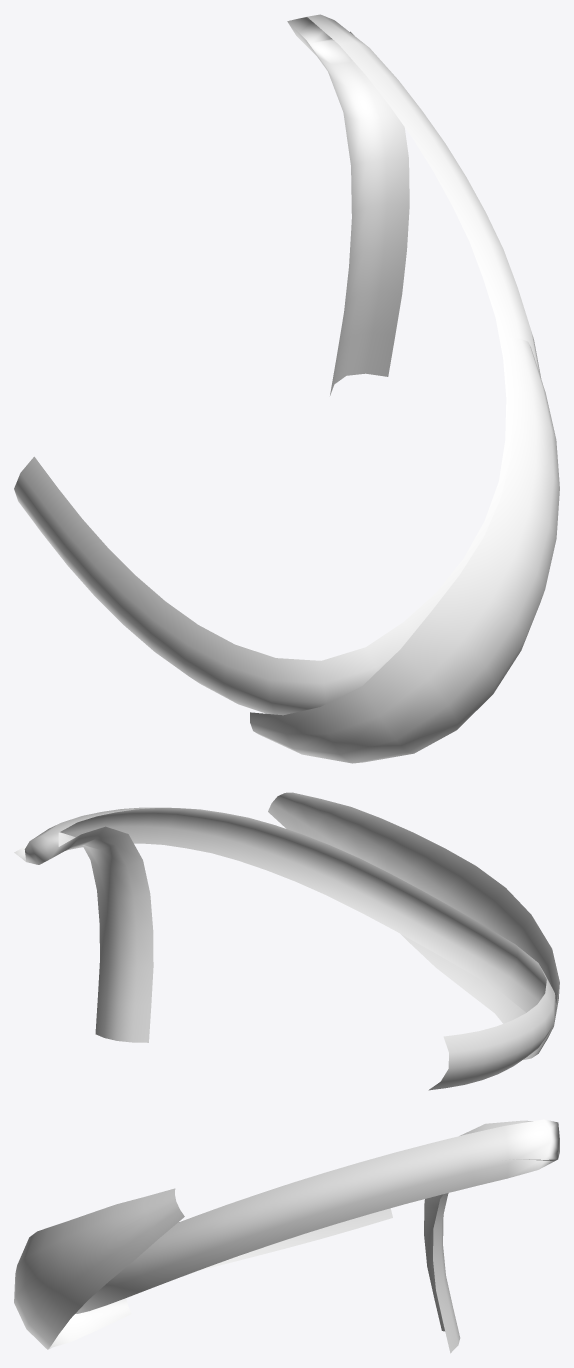
The model's file is VFX_Skill2D.fbx.
3 views of the same model, one above another, from view 1: azimuth 30°, elevation 25°; view 2: azimuth 150°, elevation 25°; view 3: azimuth 270°, elevation 25° (orthographic). The views are drawn at different scales.
Visible parts, largest first — view 1: vfx_Skill2D; view 2: vfx_Skill2D; view 3: vfx_Skill2D.
Part boxes in pixels (x1,y1,x2,y2): vfx_Skill2D: (14,14,559,763); vfx_Skill2D: (14,792,559,1090); vfx_Skill2D: (14,1119,559,1353).
Bounding box in the file's own units: 516 × 478 × 744.
